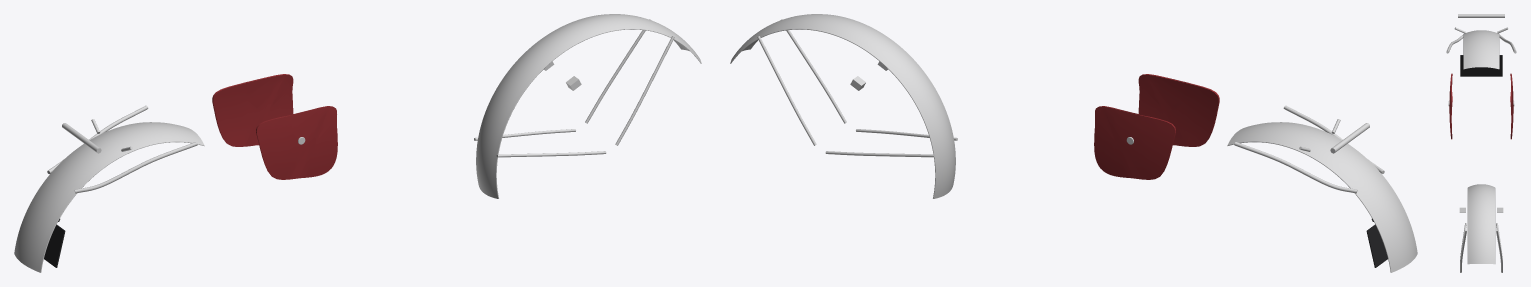
File: bike_classic_4t__bodywork.glb
3 views of the same model, side by side, from view 1: azimuth 30°, elevation 25°; view 2: azimuth 150°, elevation 25°; view 3: azimuth 270°, elevation 25° (orthographic). The views are drawn at different scales.
Visible parts, largest first — view 1: frame_body__rear_mudguard, frame_body__front_mudguard, frame_body__side_panels__left, frame_body__side_panels__right, frame_body__front_mudguard__stays, frame_body__rear_mudguard__stays, frame_body__number_plate_bracket; view 2: frame_body__rear_mudguard, frame_body__front_mudguard, frame_body__side_panels__right, frame_body__side_panels__left, frame_body__front_mudguard__stays, frame_body__rear_mudguard__stays, frame_body__number_plate_bracket; view 3: frame_body__front_mudguard, frame_body__rear_mudguard, frame_body__number_plate_bracket, frame_body__rear_mudguard__stays, frame_body__front_mudguard__stays, frame_body__side_panels__left, frame_body__side_panels__right.
Part boxes in pixels (bbox=[...]): frame_body__rear_mudguard: bbox=[14, 122, 204, 272]; frame_body__front_mudguard: bbox=[476, 14, 701, 198]; frame_body__side_panels__left: bbox=[256, 106, 337, 179]; frame_body__side_panels__right: bbox=[212, 74, 293, 146]; frame_body__front_mudguard__stays: bbox=[474, 19, 674, 157]; frame_body__rear_mudguard__stays: bbox=[47, 105, 197, 193]; frame_body__number_plate_bracket: bbox=[44, 219, 65, 267]; frame_body__rear_mudguard: bbox=[1227, 122, 1417, 272]; frame_body__front_mudguard: bbox=[730, 14, 955, 198]; frame_body__side_panels__right: bbox=[1094, 106, 1175, 179]; frame_body__side_panels__left: bbox=[1138, 74, 1219, 146]; frame_body__front_mudguard__stays: bbox=[757, 19, 957, 157]; frame_body__rear_mudguard__stays: bbox=[1234, 105, 1384, 193]; frame_body__number_plate_bracket: bbox=[1366, 219, 1387, 267]; frame_body__front_mudguard: bbox=[1467, 184, 1495, 264]; frame_body__rear_mudguard: bbox=[1463, 30, 1499, 69]; frame_body__number_plate_bracket: bbox=[1460, 55, 1502, 76]; frame_body__rear_mudguard__stays: bbox=[1446, 14, 1516, 53]; frame_body__front_mudguard__stays: bbox=[1459, 207, 1503, 272]; frame_body__side_panels__left: bbox=[1449, 73, 1452, 139]; frame_body__side_panels__right: bbox=[1510, 73, 1513, 139].
Size of the model in its own units: 213 by 47.25 by 28.25.
